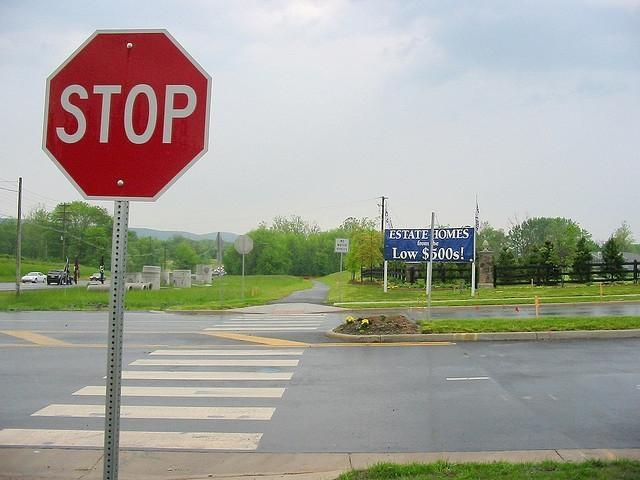car: (48, 268, 72, 286), (22, 271, 46, 283), (89, 272, 101, 282), (192, 272, 196, 280), (218, 266, 222, 270)
